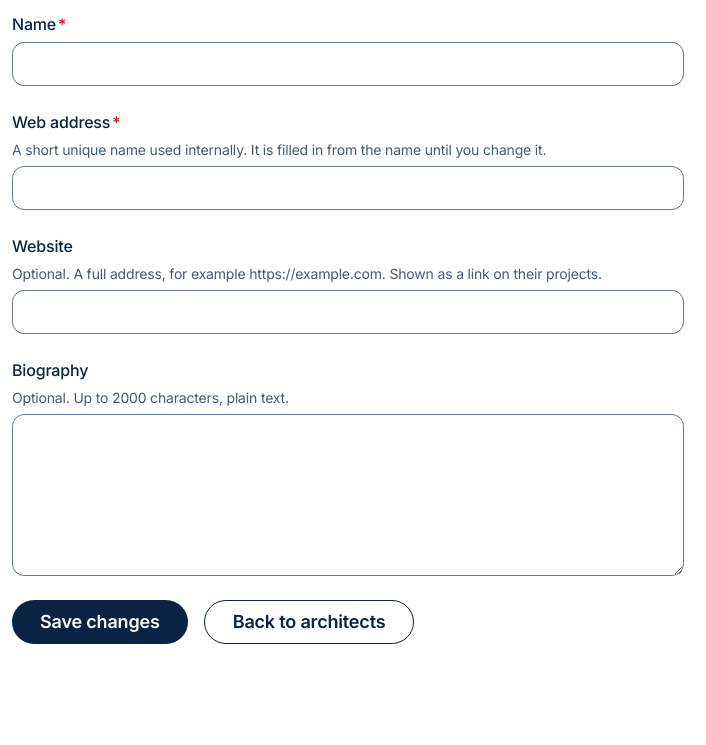
Test case: ArchitectForm › announces a successful save
The width and height of the screenshot is (706, 745).
Click the button "Save changes" at {"x": 100, "y": 622}, box top-left (12, 600), bottom-right (188, 644)
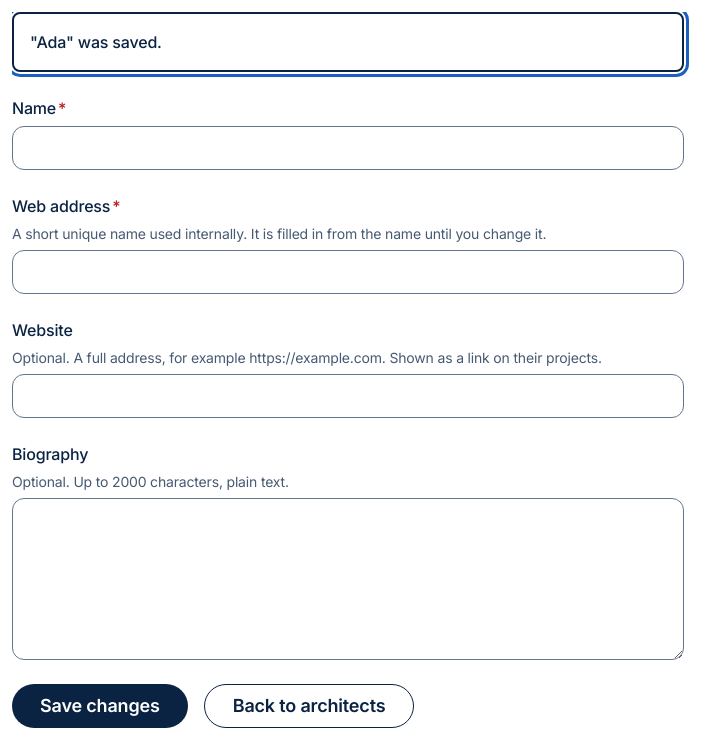
Expected: the message reads "\"Ada\" was saved.", top-left (30, 32), bottom-right (162, 52)
